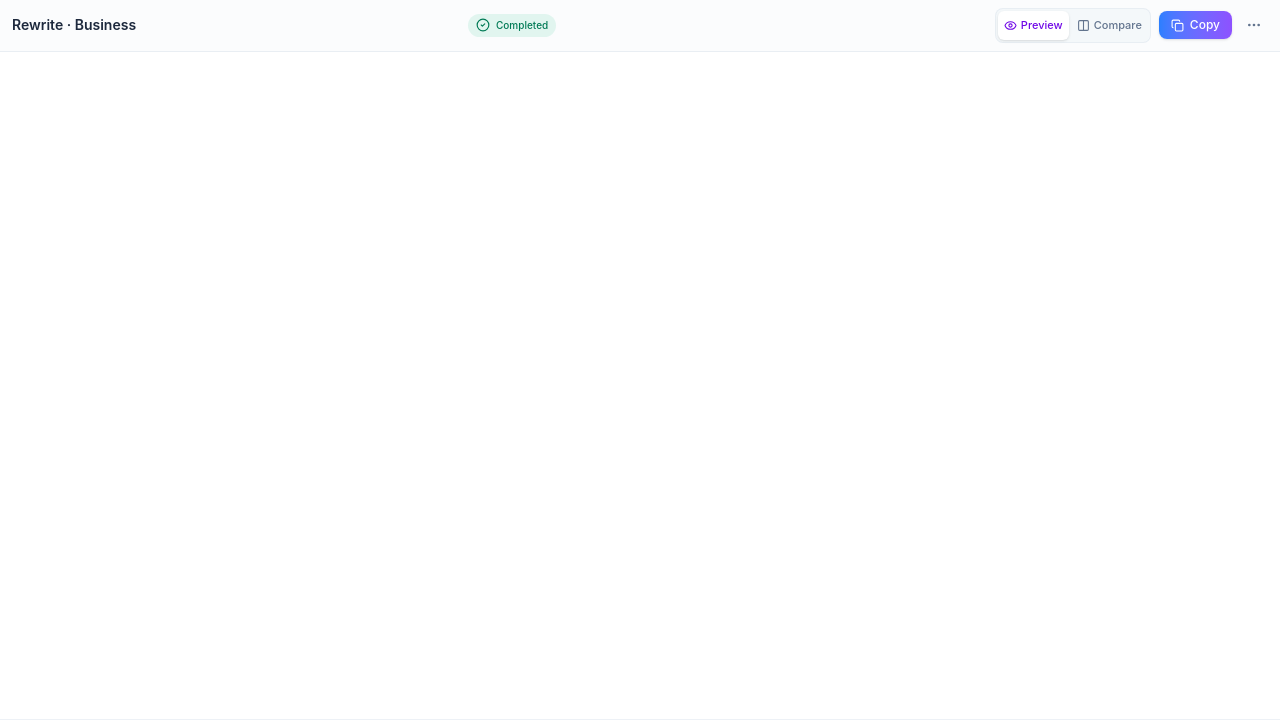
Scenario: one durable transformation path › shows only controls declared by the transformer for a completed result
The image size is (1280, 720).
Check: the button with aria-label "Copy result" is shown, box [1159,11,1232,39]
What coordinates should you click on to do the following:
click the button named "Manage this run"
I would click on:
 (1254, 25)
Its box is [1240,11,1268,39].
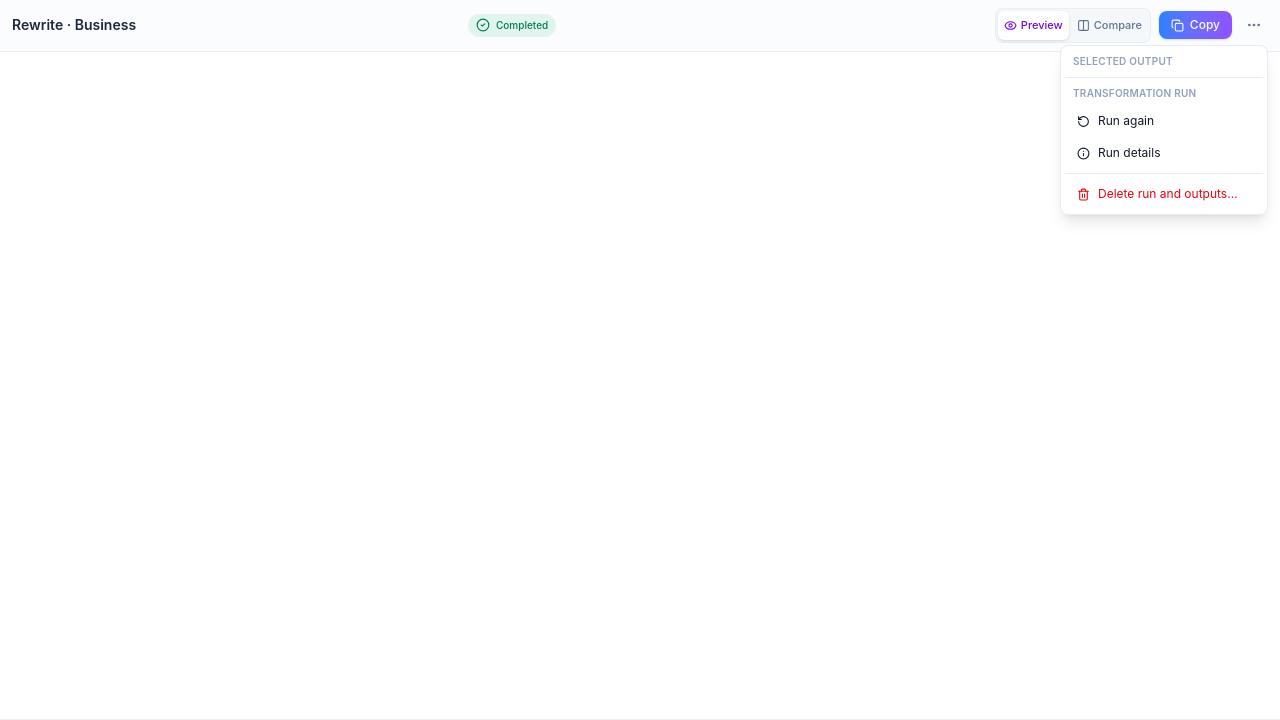
Check: the menu item "Run again" is shown, box [1077,113,1154,128]
